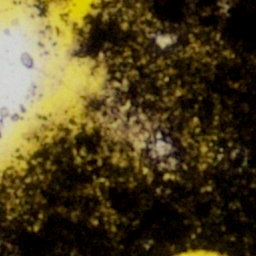air_pores: (174, 250, 223, 255)
cement_matrix: (0, 0, 255, 255), (150, 136, 169, 157), (155, 34, 172, 47)
cracks: (0, 0, 152, 181)
gravel_crushed_stones: (0, 7, 66, 155), (151, 137, 168, 156), (156, 35, 171, 46)
